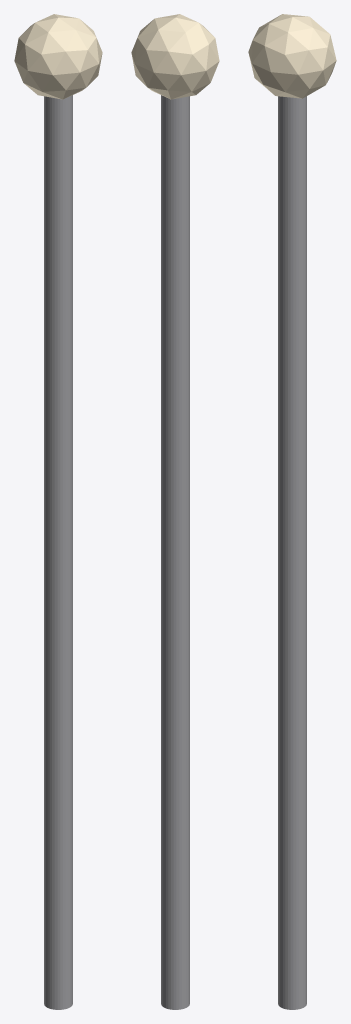
File: Lamp.glb
3 renders of one model, left to right at view 1: azimuth 30°, elevation 25°; view 2: azimuth 150°, elevation 25°; view 3: azimuth 330°, elevation 25°, orthographic.
Parts seen in each view (by area): view 1: LampPole, LampHead; view 2: LampPole, LampHead; view 3: LampPole, LampHead.
Part boxes in pixels (<box>): LampPole: <box>44,95,72,1009</box>; LampHead: <box>14,14,102,99</box>; LampPole: <box>161,95,189,1009</box>; LampHead: <box>131,14,219,99</box>; LampPole: <box>278,96,306,1009</box>; LampHead: <box>248,14,336,98</box>.
Size of the model in its own units: 0.36 by 4.53 by 0.36.
